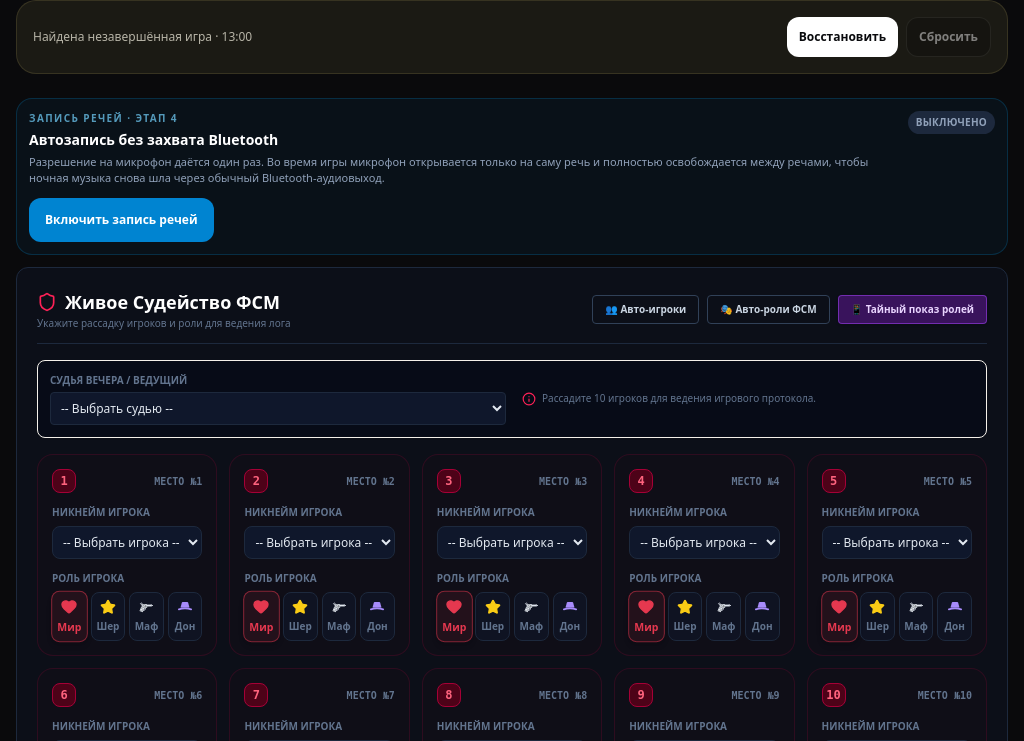
Live Game voting: player actions and zero-round split › opens the player action sheet with fouls on a long press without casting a vote
The width and height of the screenshot is (1024, 741).
Click the button "Восстановить".
click(842, 37)  # box [787,17,898,57]
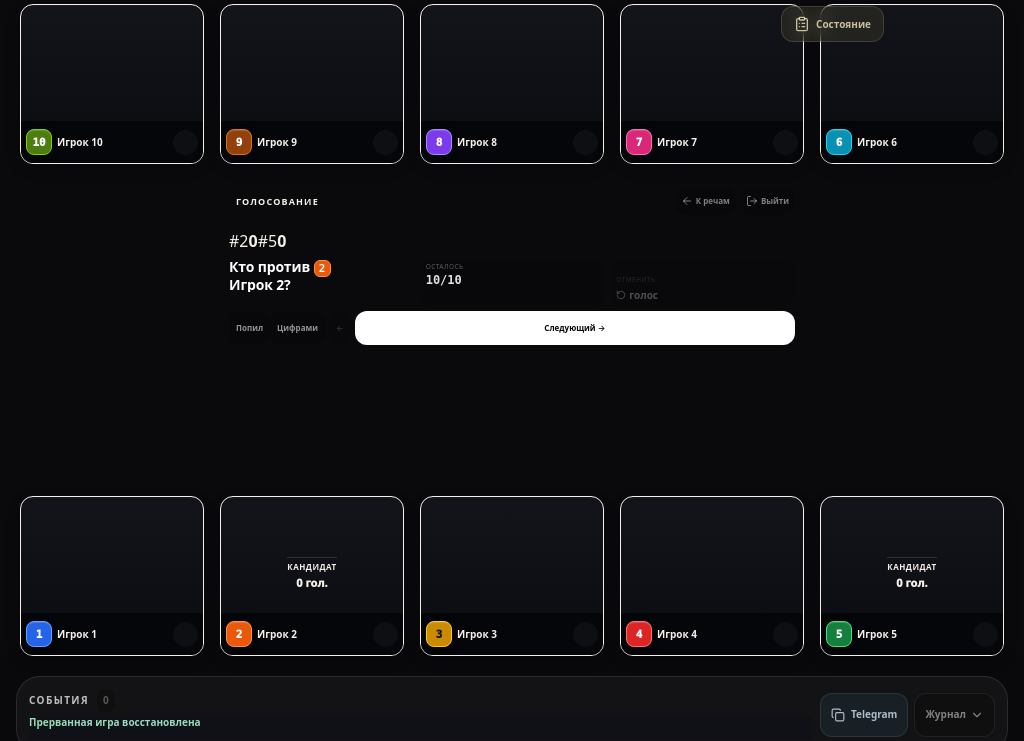
Check: the text "Кто против 2" is shown, box [229,257,331,276]
Click the element showing "6 Игрок 6".
click(912, 84)  # box [820,4,1004,164]
Wait 700 ms
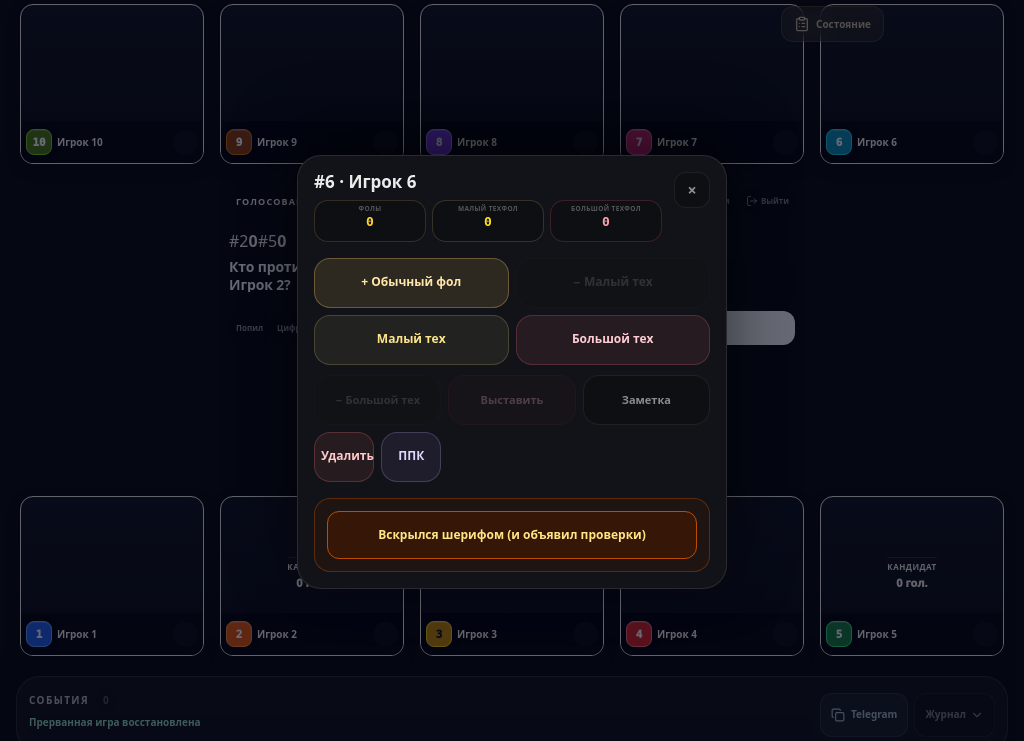
Check: the button with test id "live-player-add-regular-foul" is shown, box [314,258,508,308]
